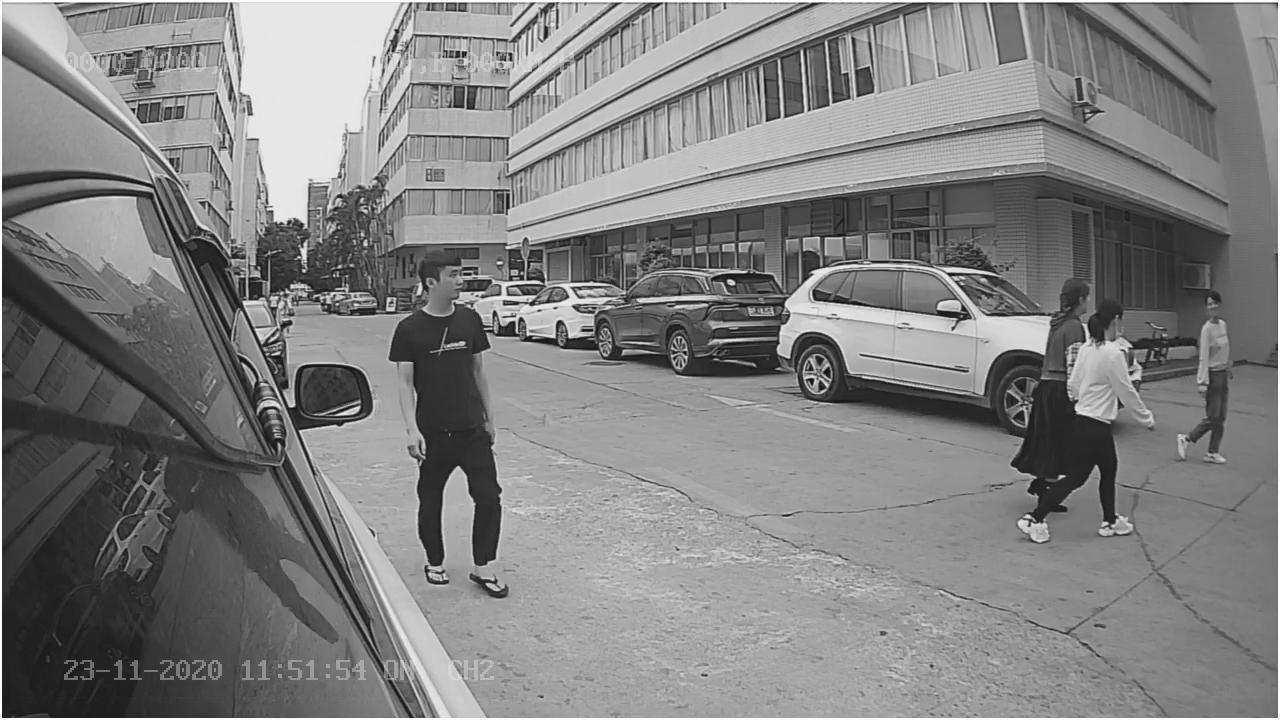person: (385, 238, 534, 604), (1015, 293, 1138, 547), (1170, 284, 1231, 471)
